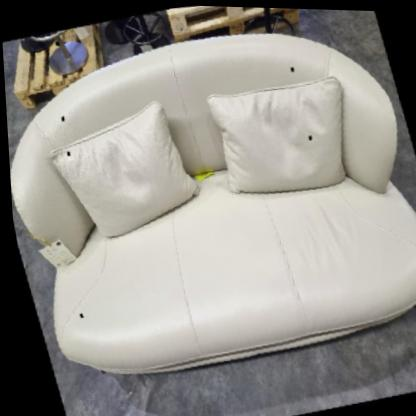Sofa: (0, 8, 416, 397)
